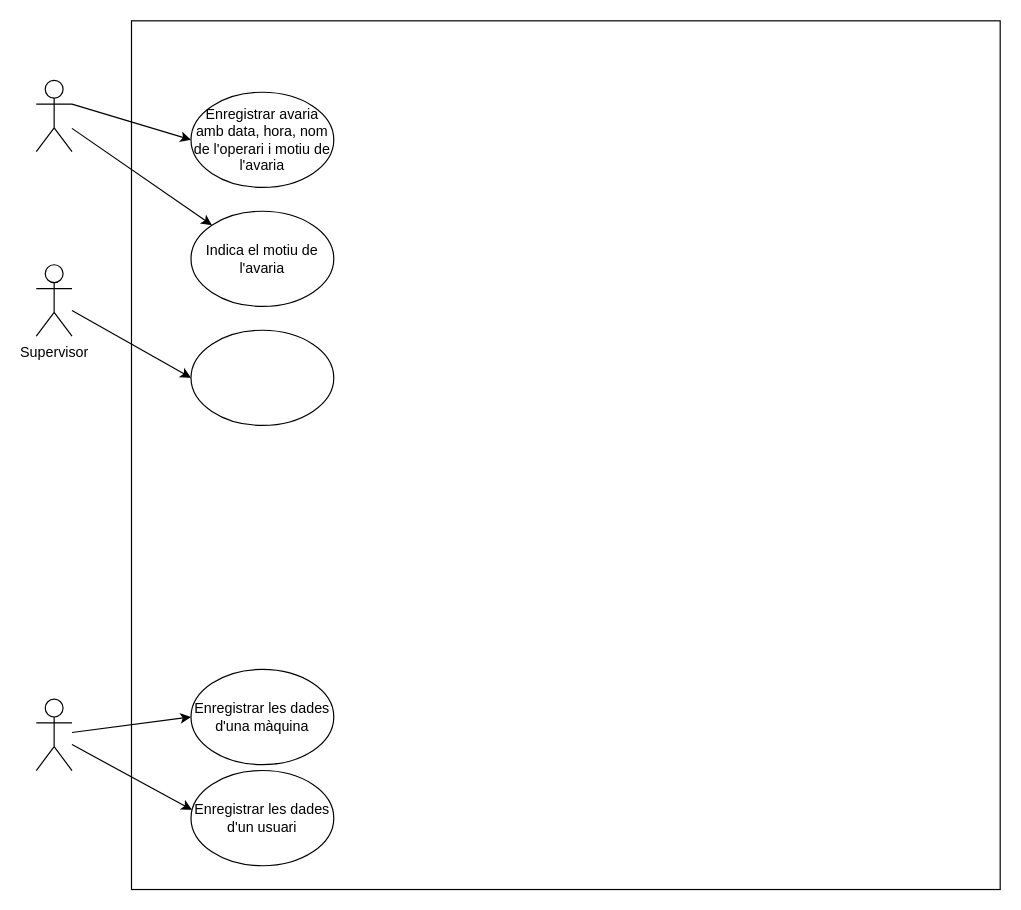
Some shapes in this 1021 by 910 pixel diagram are drawn without their labels. The centre of each missing label's shape, as x and y in pixels:
Admin: (x=53, y=734)
Consultar les avaries d'una data: (x=262, y=377)
Operari: (x=53, y=115)
